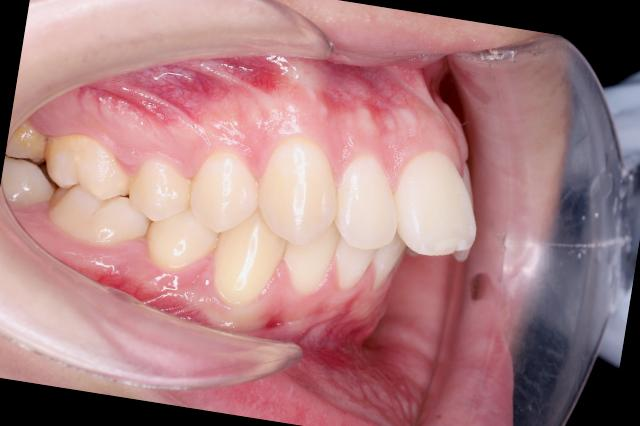canine class II 1/4: (203, 130, 353, 326)
molar class I: (27, 122, 160, 263)
